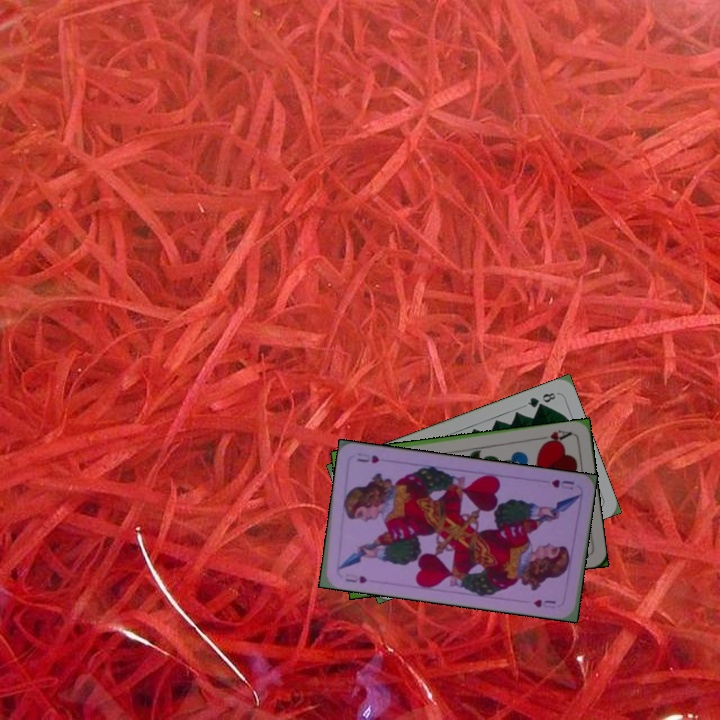G8: (523, 388, 558, 410)
HA: (534, 426, 575, 447)
HU: (341, 569, 370, 586), (548, 475, 576, 490)
